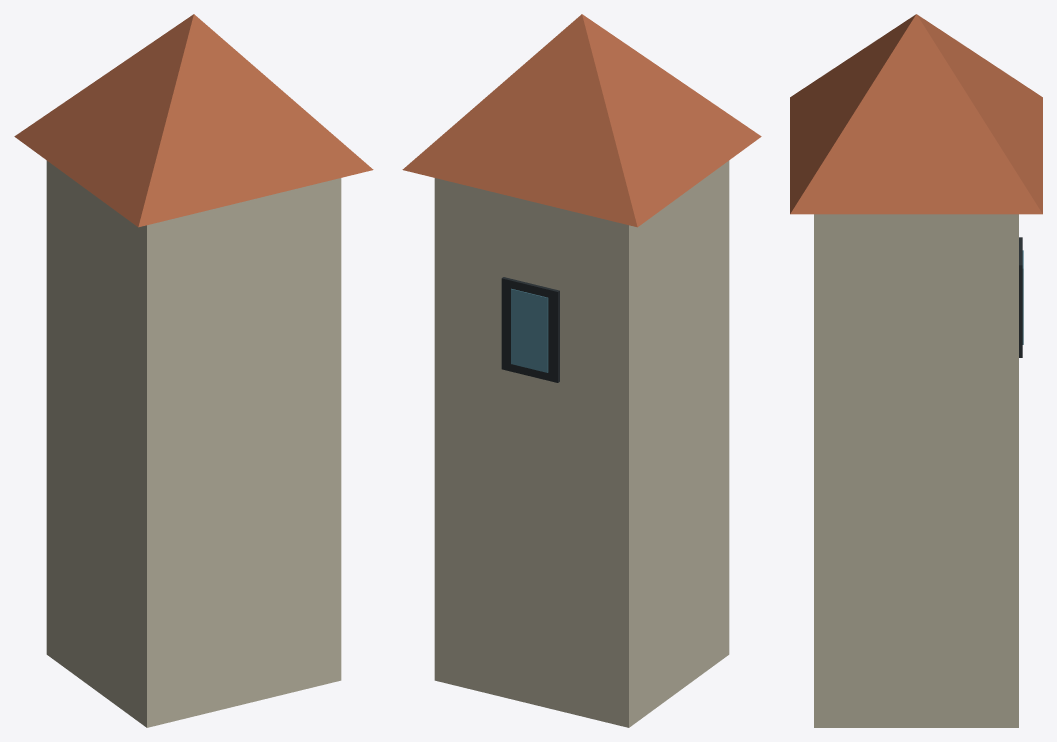
The model's file is tower.glb.
3 renders of one model, left to right at view 1: azimuth 30°, elevation 25°; view 2: azimuth 150°, elevation 25°; view 3: azimuth 270°, elevation 25°, orthographic.
Visible parts, largest first — view 1: VillageTowerMesh; view 2: VillageTowerMesh; view 3: VillageTowerMesh.
Part boxes in pixels (x1=…): VillageTowerMesh: x1=14, y1=14, x2=373, y2=727; VillageTowerMesh: x1=402, y1=14, x2=761, y2=727; VillageTowerMesh: x1=790, y1=14, x2=1042, y2=727.
Bounding box in the file's own units: 2.3 × 6.1 × 2.1.
